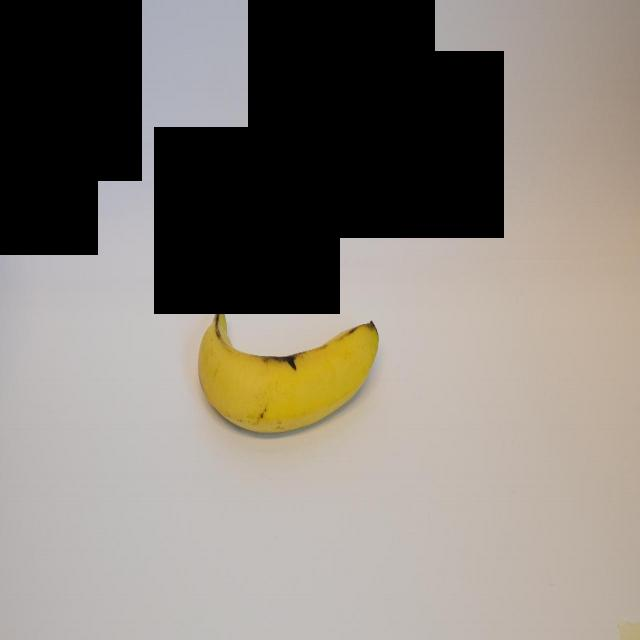banana: (198, 288, 383, 442)
